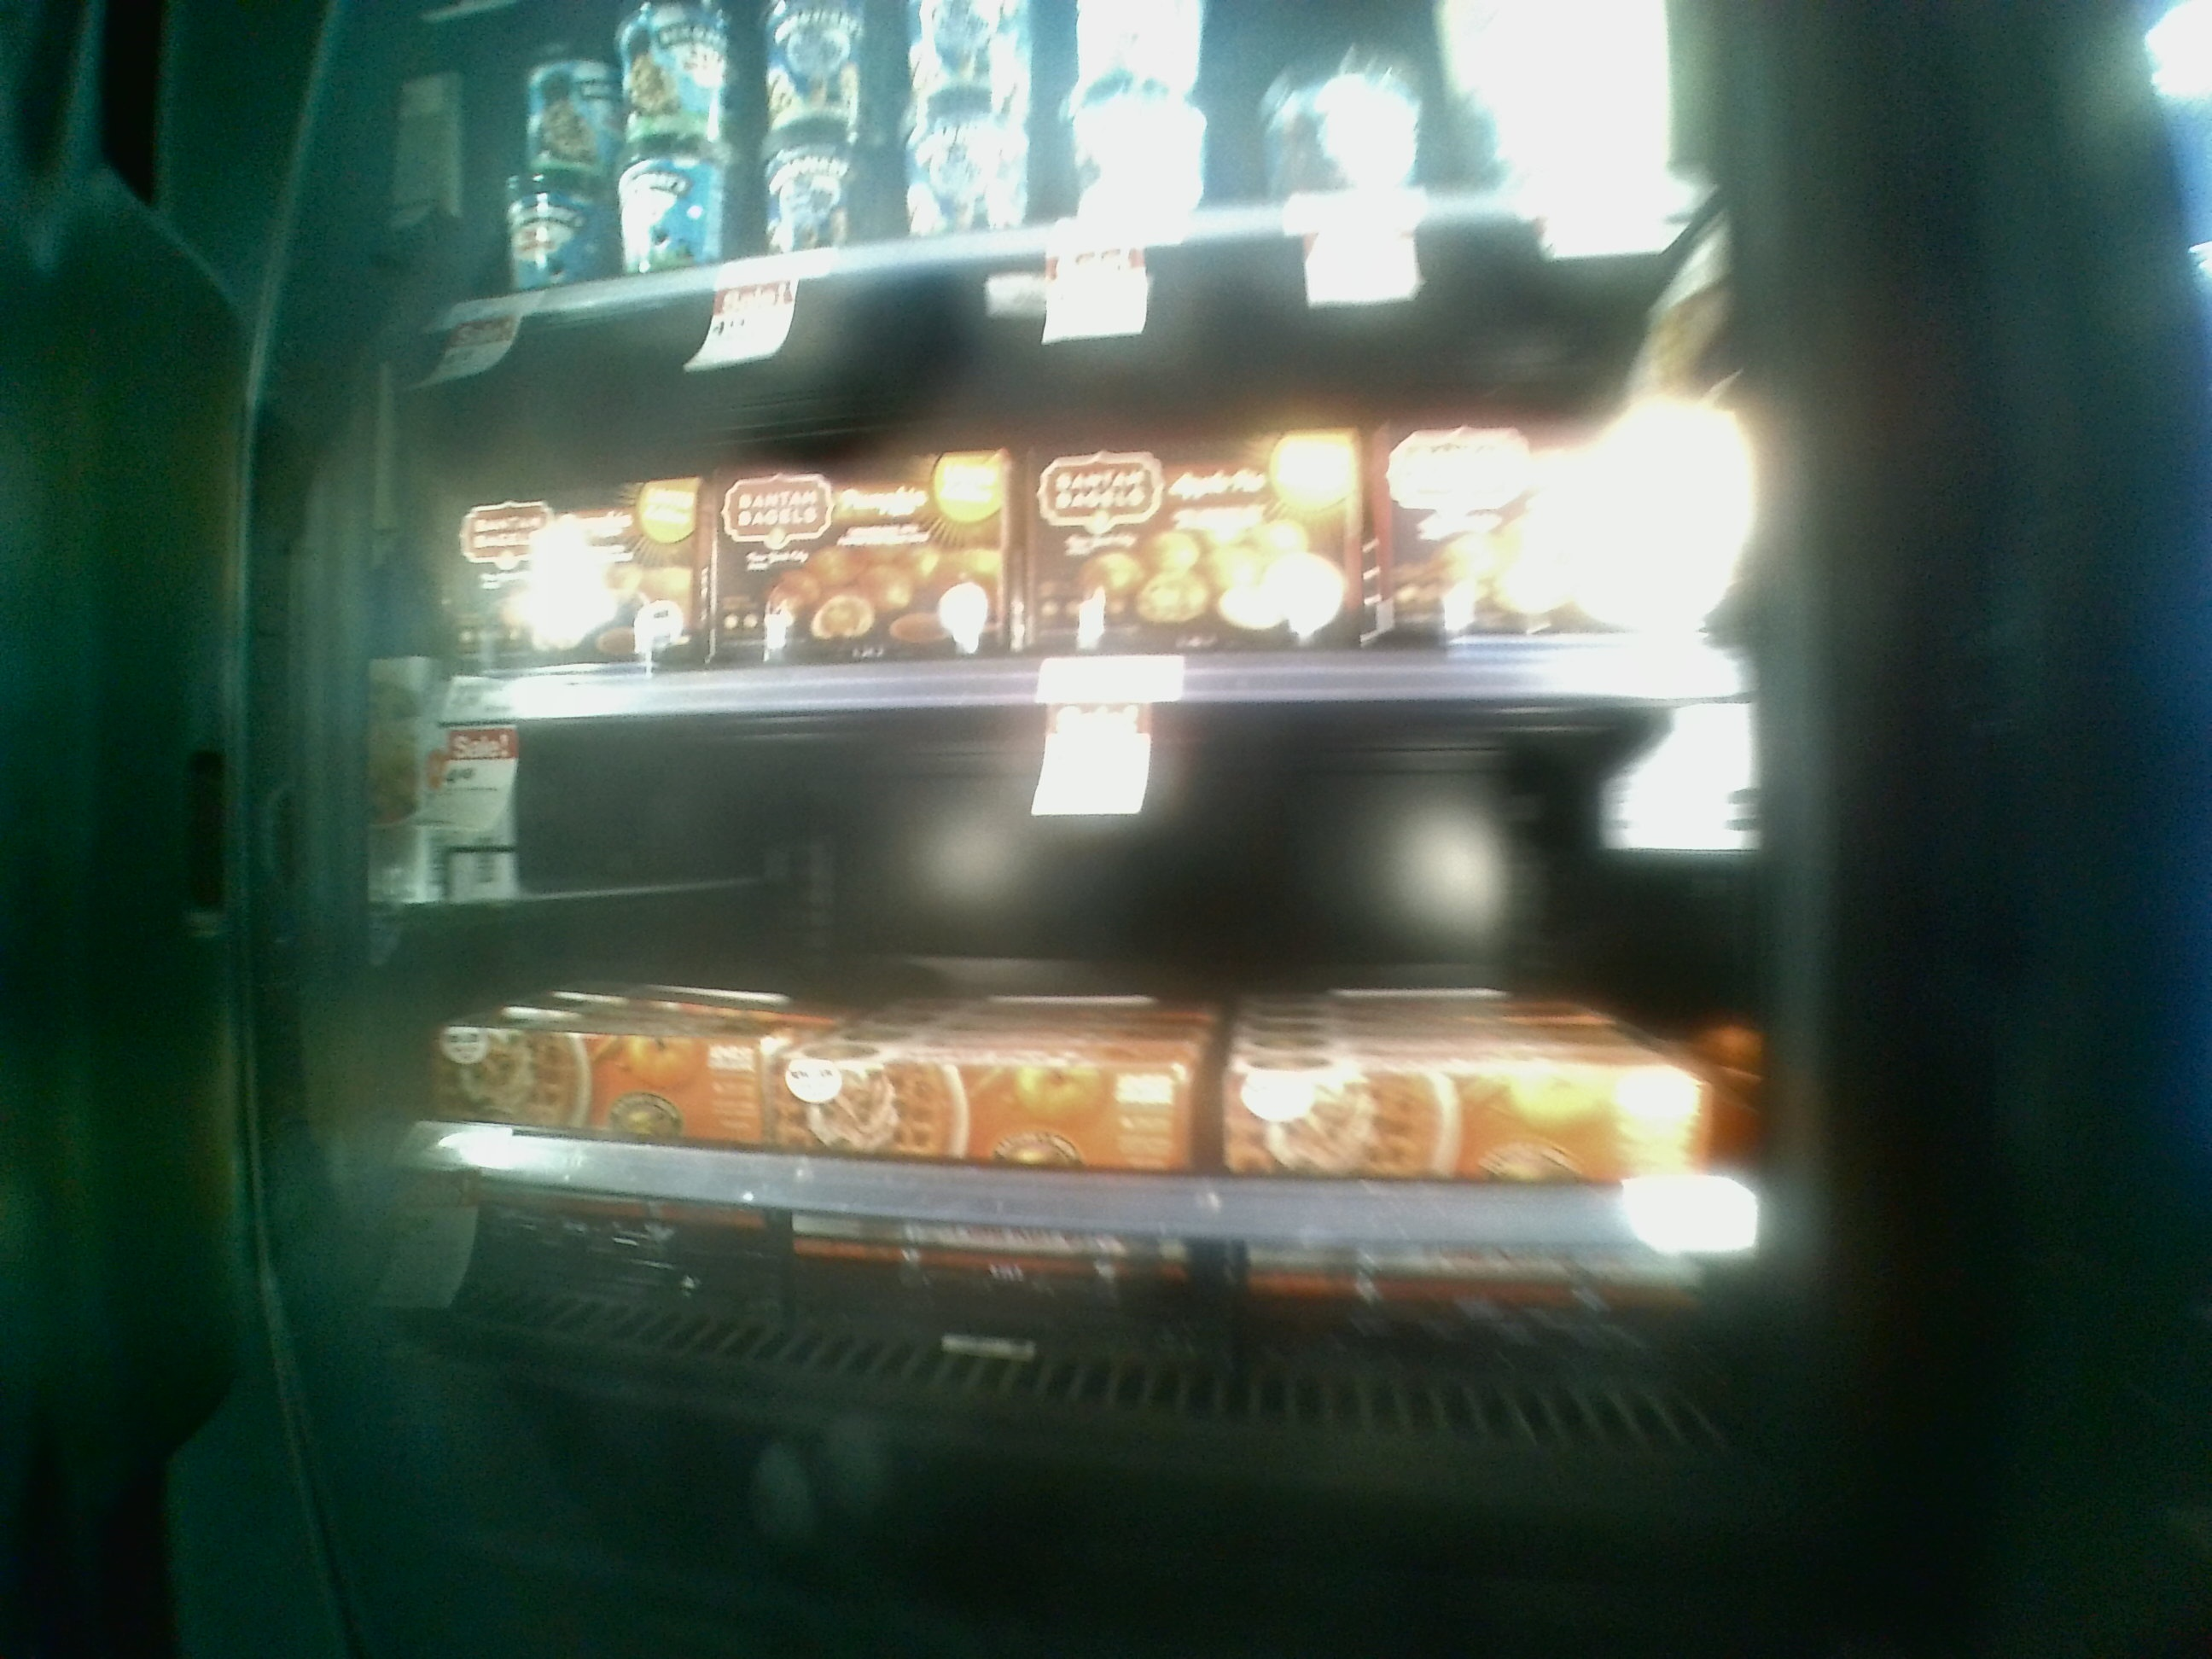shelf: (392, 708, 1785, 1490), (388, 291, 1764, 727)
